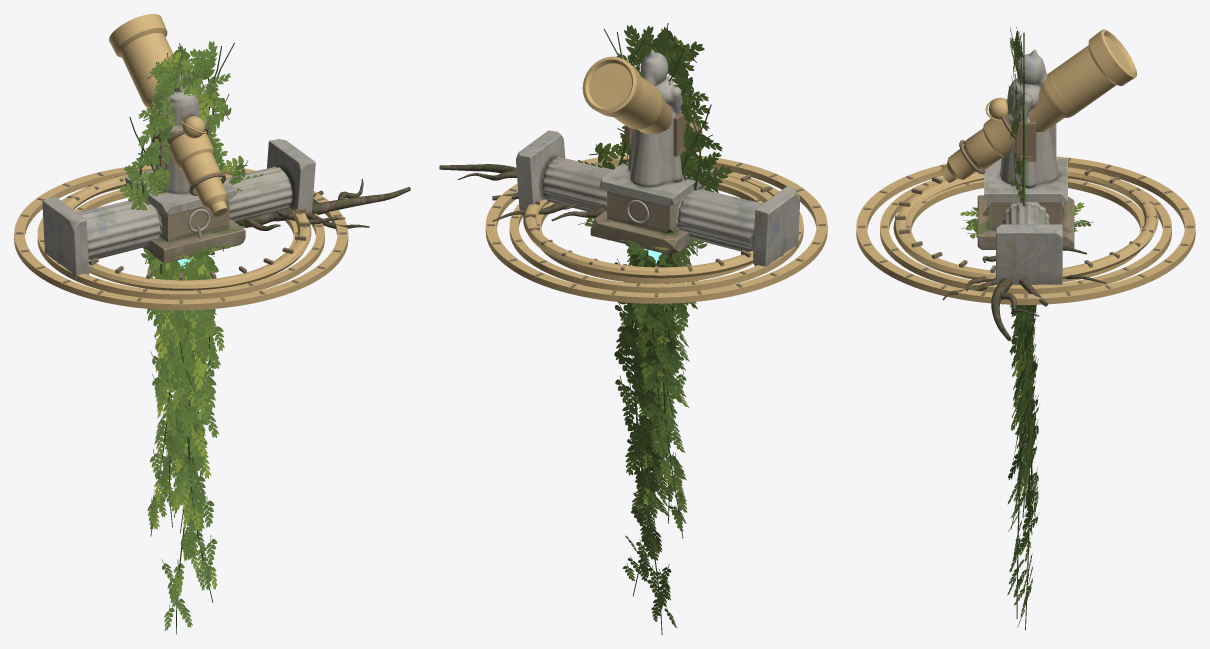
Rendered from Citadel.gltf.
3 renders of one model, left to right at view 1: azimuth 30°, elevation 25°; view 2: azimuth 150°, elevation 25°; view 3: azimuth 270°, elevation 25°, orthographic. The views are drawn at different scales.
Visible parts, largest first — view 1: FallenColumn_A, Vine_C, Statue_A, Ivy_A, Armillary_A, Telescope, Vine_B, FallenRing, Armillary_B, Vine_A, Roots_A, Ivy_B (+1 smaller); view 2: FallenColumn_A, Statue_A, Vine_C, Vine_B, Armillary_A, Ivy_A, Telescope, FallenRing, Armillary_B, Vine_A, Armillary_C, Roots_A (+1 smaller); view 3: Telescope, Statue_A, Armillary_A, FallenRing, Vine_C, FallenColumn_A, Armillary_B, Armillary_C, Vine_B, Ivy_A, Roots_A, GroundIvy_A.
Part boxes in pixels (box(x1,y1,x2,y2)): FallenColumn_A: box(42, 139, 315, 278); Vine_C: box(152, 253, 220, 634); Statue_A: box(124, 62, 245, 263); Ivy_A: box(119, 41, 263, 210); Armillary_A: box(14, 165, 348, 310); Telescope: box(109, 14, 227, 250); Vine_B: box(147, 254, 206, 536); FallenRing: box(64, 170, 311, 290); Armillary_B: box(37, 187, 324, 299); Vine_A: box(147, 255, 224, 409); Roots_A: box(272, 179, 410, 228); Ivy_B: box(129, 99, 241, 255); FallenColumn_A: box(516, 130, 800, 266); Statue_A: box(590, 49, 712, 254); Vine_C: box(614, 244, 688, 634); Vine_B: box(629, 244, 697, 538); Armillary_A: box(485, 154, 827, 303); Ivy_A: box(578, 23, 732, 192); Telescope: box(582, 56, 702, 229); FallenRing: box(523, 166, 772, 278); Armillary_B: box(509, 165, 803, 292); Vine_A: box(620, 246, 698, 415); Armillary_C: box(537, 181, 763, 283); Roots_A: box(439, 164, 569, 221); Telescope: box(940, 29, 1136, 215); Statue_A: box(977, 49, 1074, 249); Armillary_A: box(856, 156, 1195, 304); FallenRing: box(893, 167, 1158, 281); Vine_C: box(1007, 305, 1039, 629); FallenColumn_A: box(996, 124, 1062, 284); Armillary_B: box(880, 169, 1171, 294); Armillary_C: box(906, 178, 1144, 282); Vine_B: box(1010, 305, 1038, 534); Ivy_A: box(1008, 27, 1025, 216); Roots_A: box(942, 275, 1106, 340); GroundIvy_A: box(960, 202, 1093, 238).
Size of the model in its own units: 6.31 by 9.9 by 5.
Materials: 8 (8 with a texture image).
